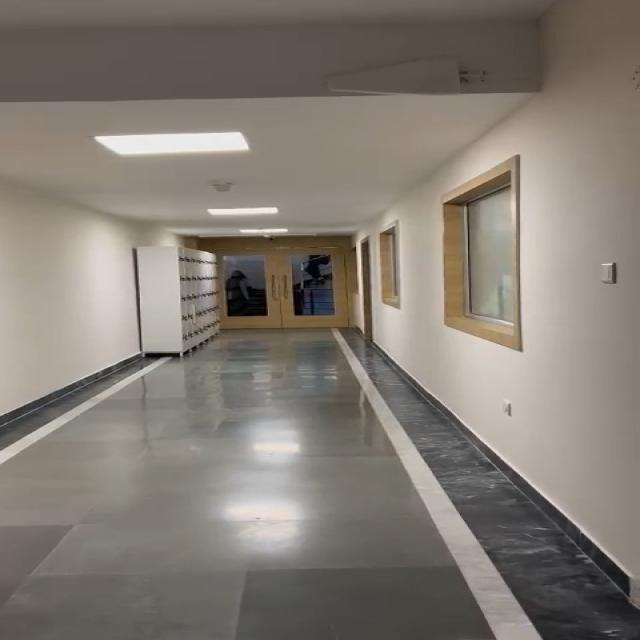door: (238, 240, 355, 334)
floor: (6, 373, 404, 640)
furniture: (91, 240, 245, 367)
wall: (342, 94, 640, 491)
